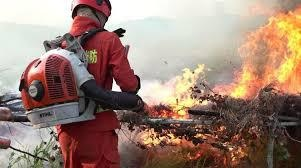fire: (215, 3, 301, 100)
